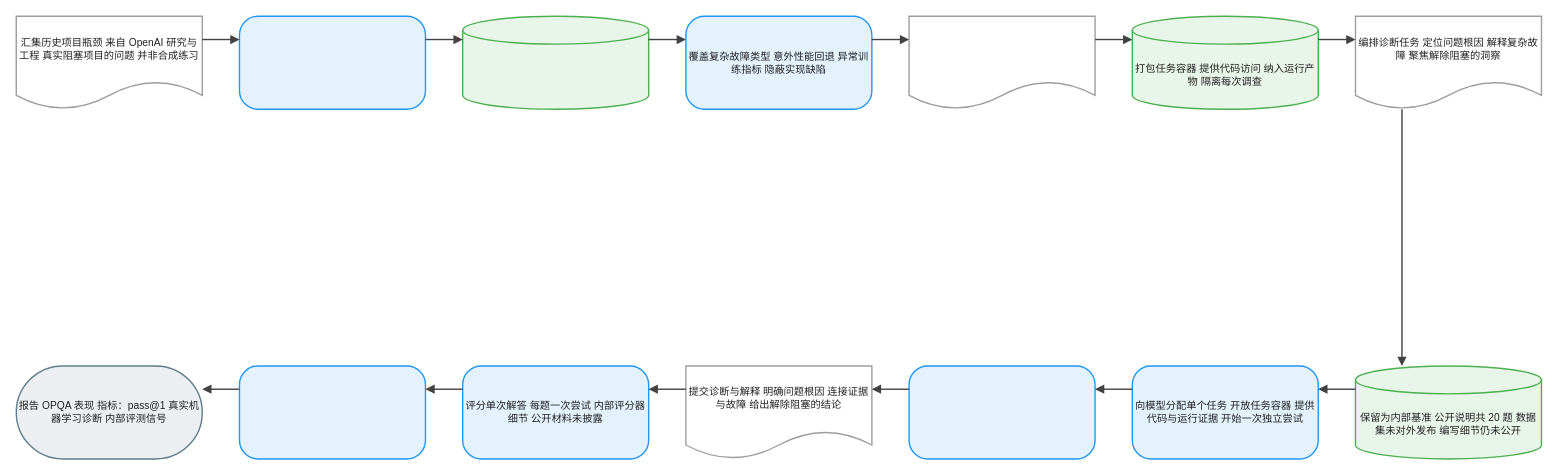
Image size: 1559x476. Some labels were removed from this diagram. The shapes that lost their labels are listed below. From the top down, each one's centre as x and y in pixels, then its label:
At point 332,62: "应用“OpenAI-Proof”标准 团队解决耗时超过一天 导致重大项目延迟 部分影响训练运行或发布".
At point 555,62: "选出 20 个内部任务 覆盖研究与工程案例 保留真实故障背景 保持诊断难度".
At point 1001,62: "保留历史诊断证据 代码与日志 实验和运行数据 相关项目产物".
At point 332,412: "汇总 20 个任务 统计成功诊断 保持单次尝试设置 计算 pass@1".
At point 1001,412: "调查故障 检查代码与产物 追踪指标和性能回退 形成根因解释".
